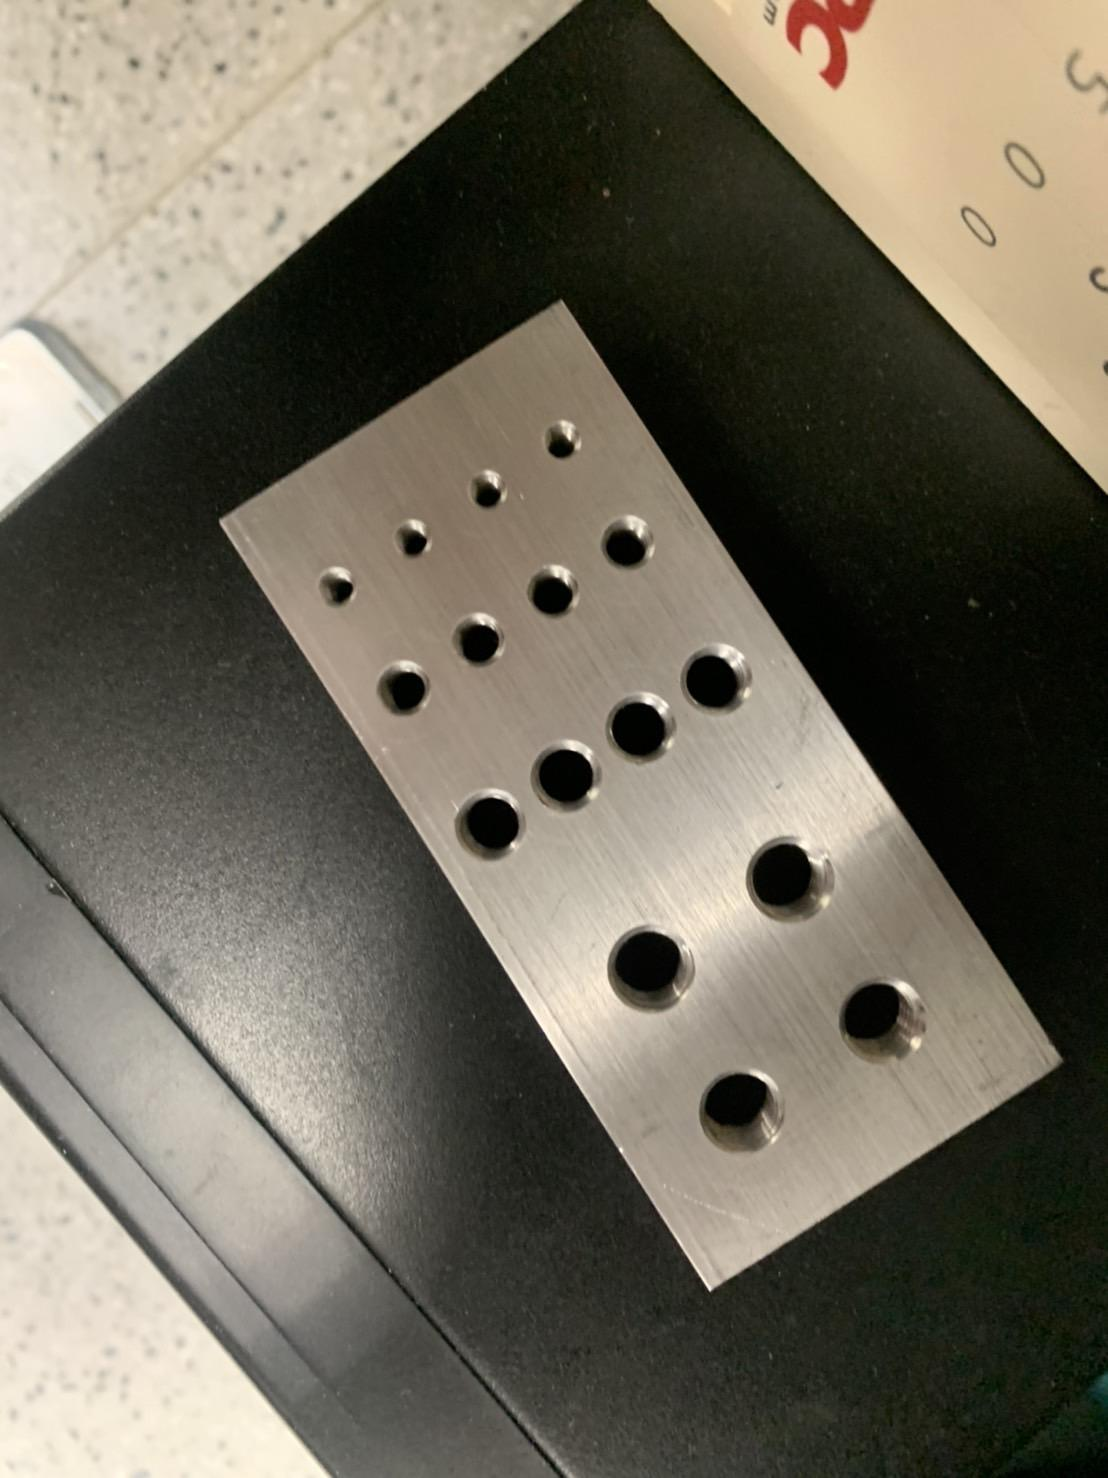hole: (702, 1065, 795, 1157), (601, 928, 695, 1018), (834, 971, 922, 1061), (746, 836, 832, 926), (441, 782, 528, 862), (608, 690, 687, 769), (523, 737, 602, 815), (681, 645, 752, 725), (367, 649, 434, 724), (449, 604, 512, 668), (590, 519, 655, 578), (514, 560, 577, 619), (389, 511, 442, 575), (308, 563, 365, 614), (533, 408, 590, 460), (467, 471, 523, 519)
